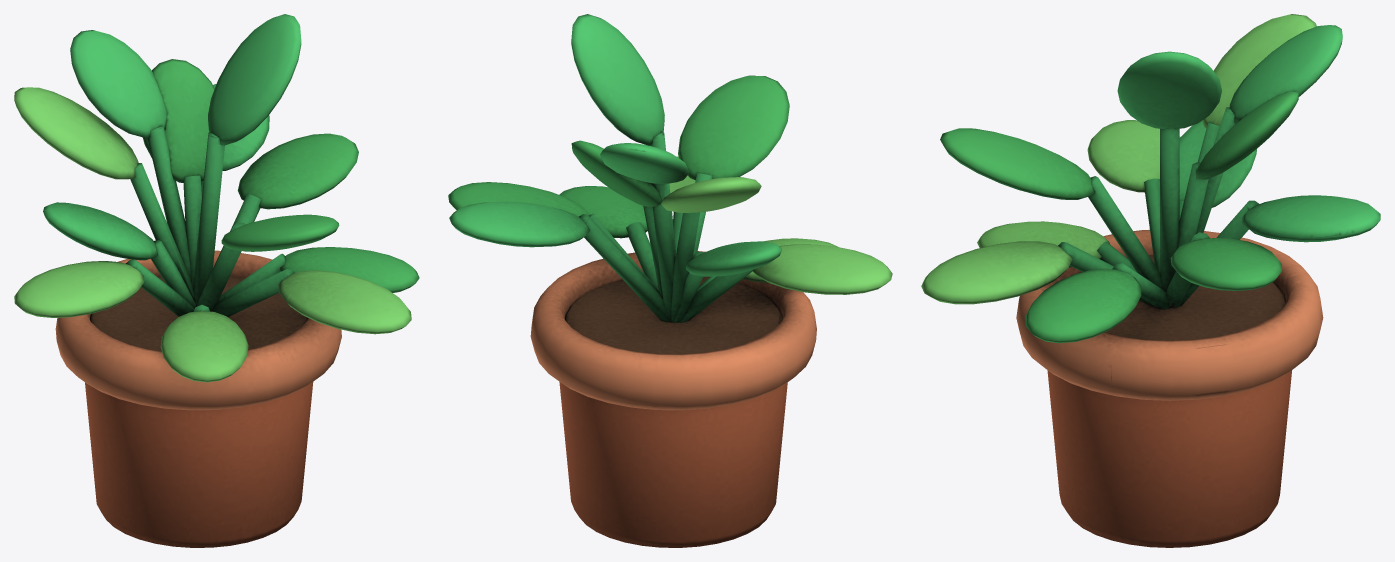
Rendered from plant_pot.glb.
3 views of the same model, side by side, from view 1: azimuth 30°, elevation 25°; view 2: azimuth 150°, elevation 25°; view 3: azimuth 270°, elevation 25° (orthographic). The views are drawn at different scales.
Visible parts, largest first — view 1: plant_pot; view 2: plant_pot; view 3: plant_pot.
Boxes of the visible parts, <box> form: plant_pot: <box>14,14,419,547</box>; plant_pot: <box>448,14,892,547</box>; plant_pot: <box>921,14,1380,547</box>.
Size of the model in its own units: 0.682 by 0.7961 by 0.6587.
7 materials, 7 textured.
